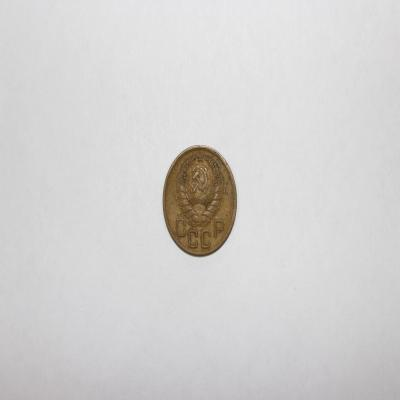numismatics: (162, 145, 237, 257)
